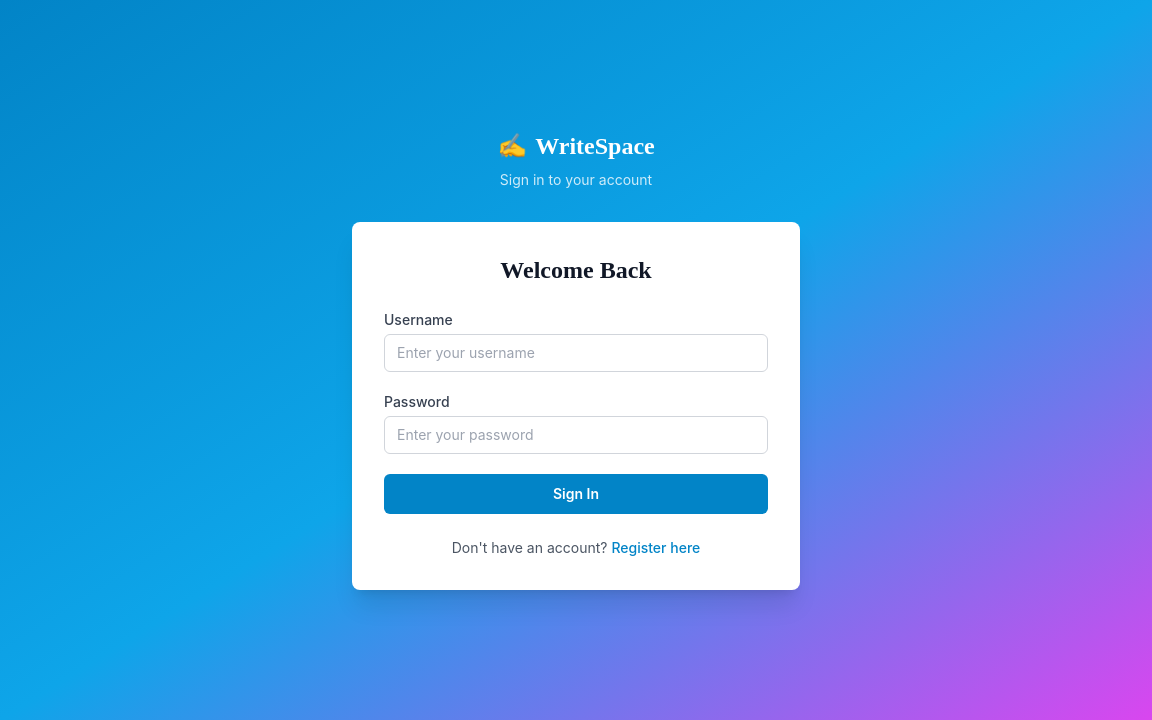
LoginPage › failed login error display › displays error message on failed login
The width and height of the screenshot is (1152, 720).
Type "wronguser" into the field labelled "Username" at x=576, y=353, box [384,334,768,372]
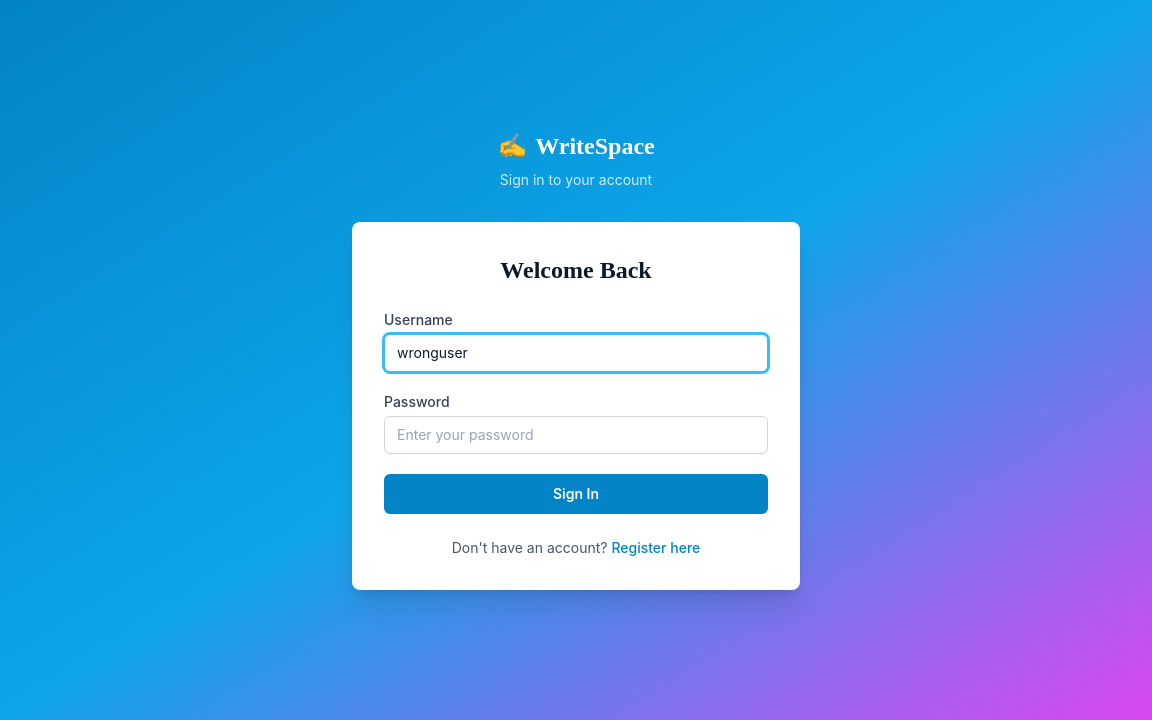
Type "wrongpass" into the password field labelled "Password" at x=576, y=435, box [384,416,768,454]
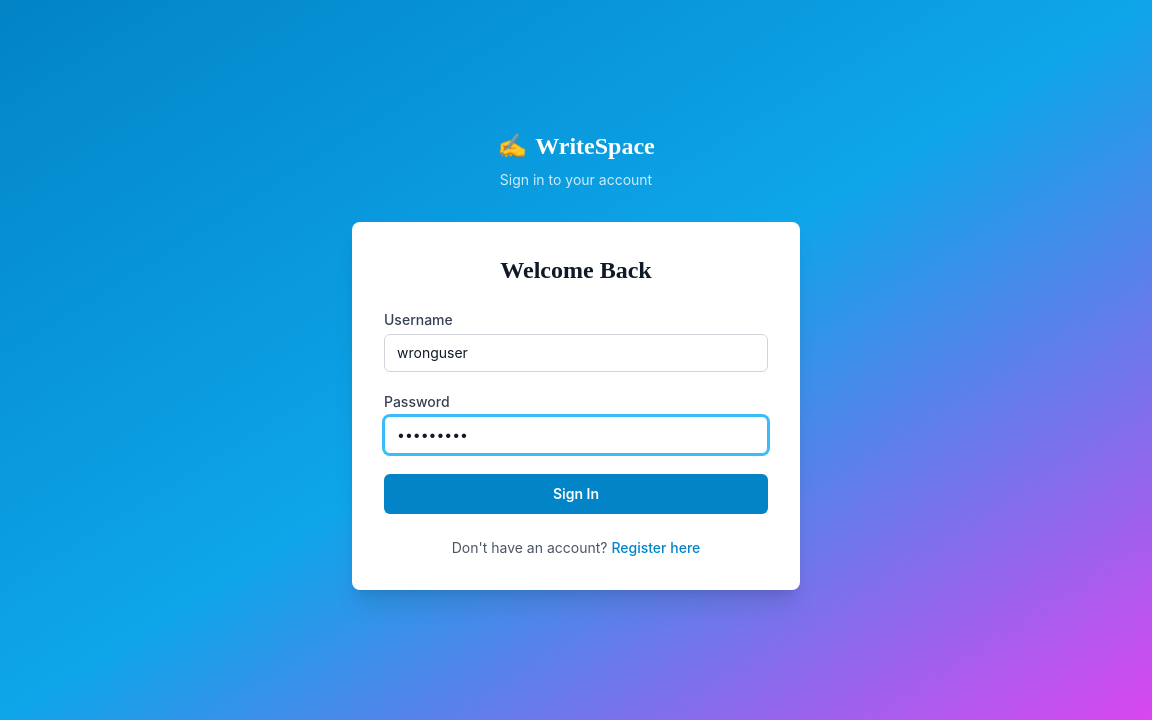
Click the button "Sign In" at x=576, y=494, box [384,474,768,514]
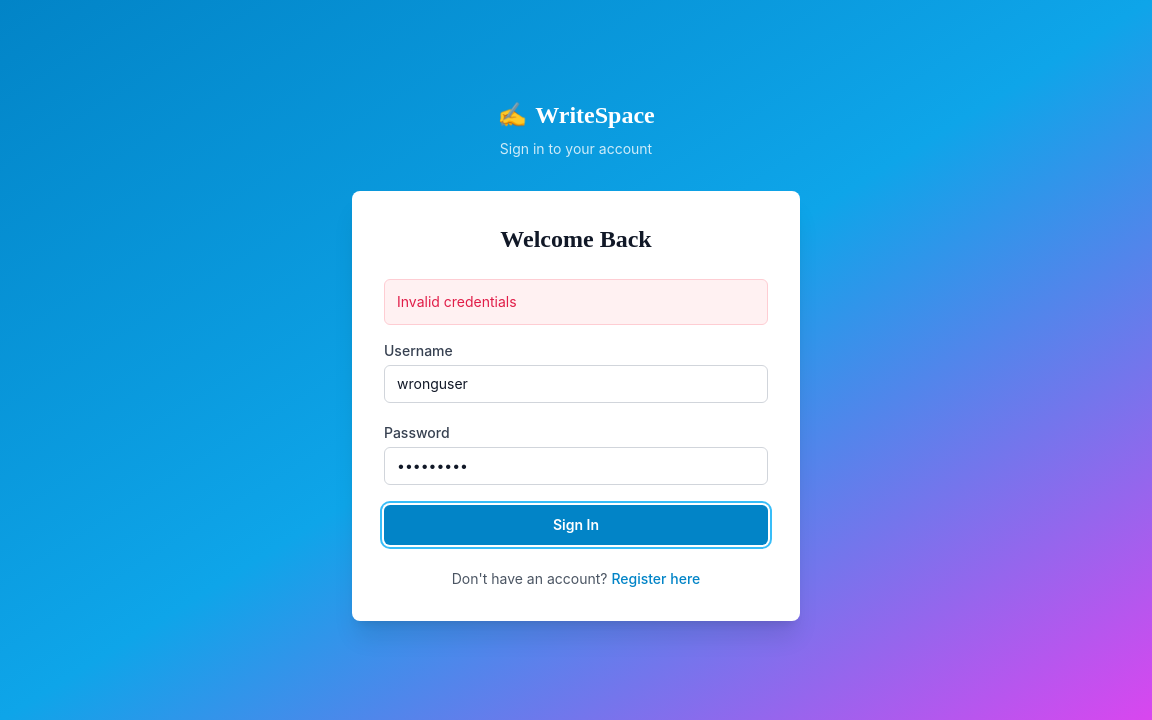
Check: the text "Invalid credentials" is shown, box [397,293,517,310]
